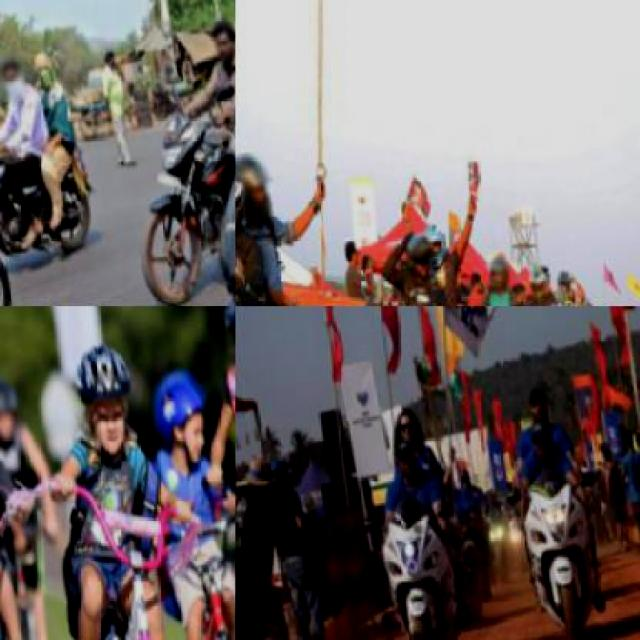With Helmet: (65, 337, 142, 471), (147, 366, 216, 482), (235, 151, 274, 226), (398, 229, 436, 294), (0, 374, 25, 449), (482, 258, 512, 302), (235, 160, 248, 245), (522, 263, 546, 305)
Without Helmet: (518, 372, 556, 426), (204, 13, 233, 76), (0, 48, 29, 108), (388, 401, 424, 448), (523, 426, 559, 469), (389, 444, 420, 484)
